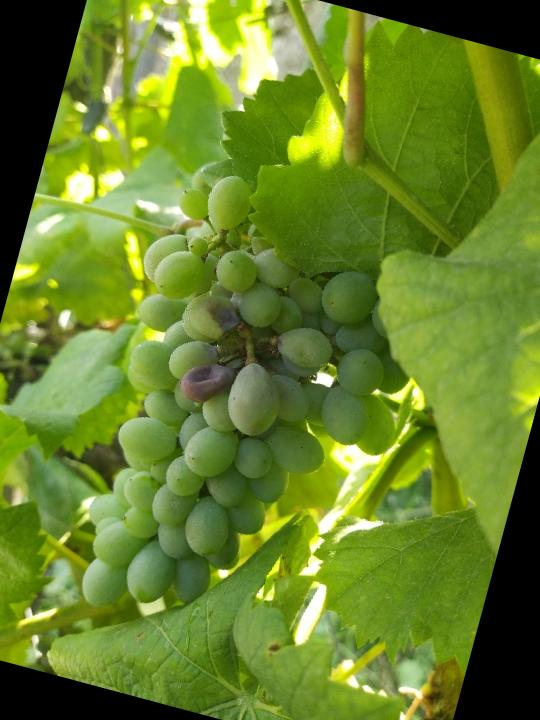grape: (50, 148, 454, 673)
